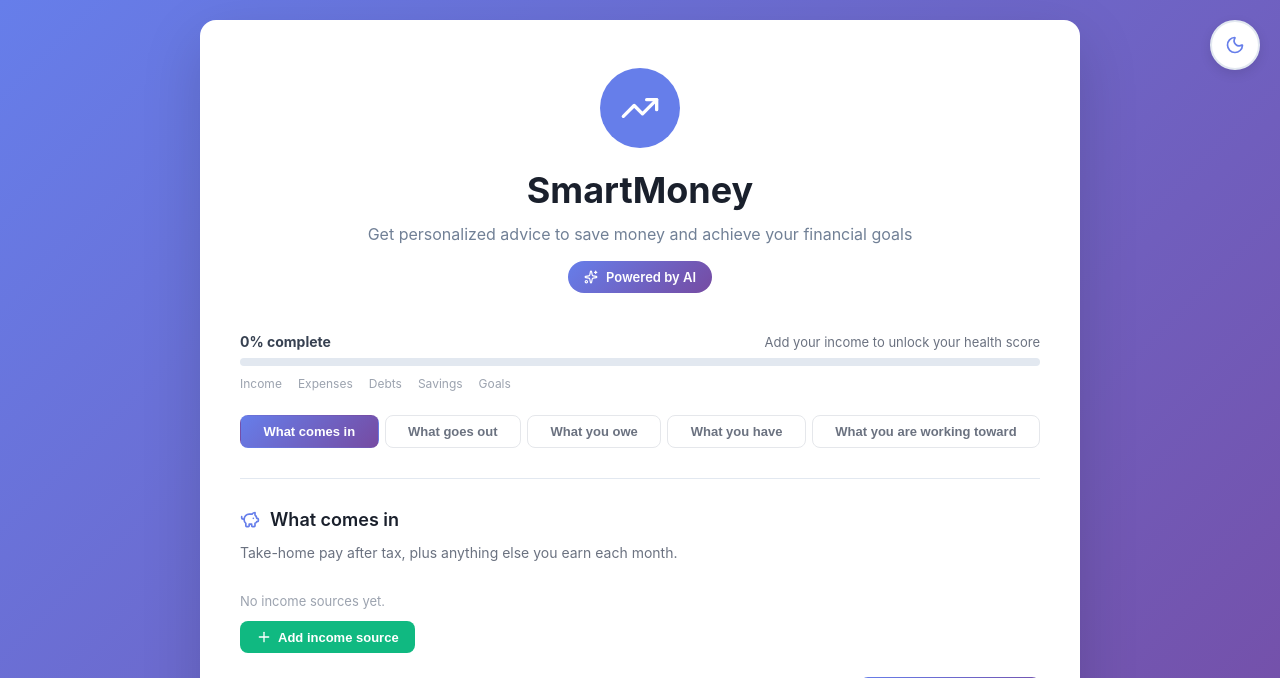
Test case: debt payoff calculator › shares its debt list with the wizard
This screenshot has width=1280, height=678.
Click the button "What you owe": (594, 432) x1=527 y1=415 x2=661 y2=448
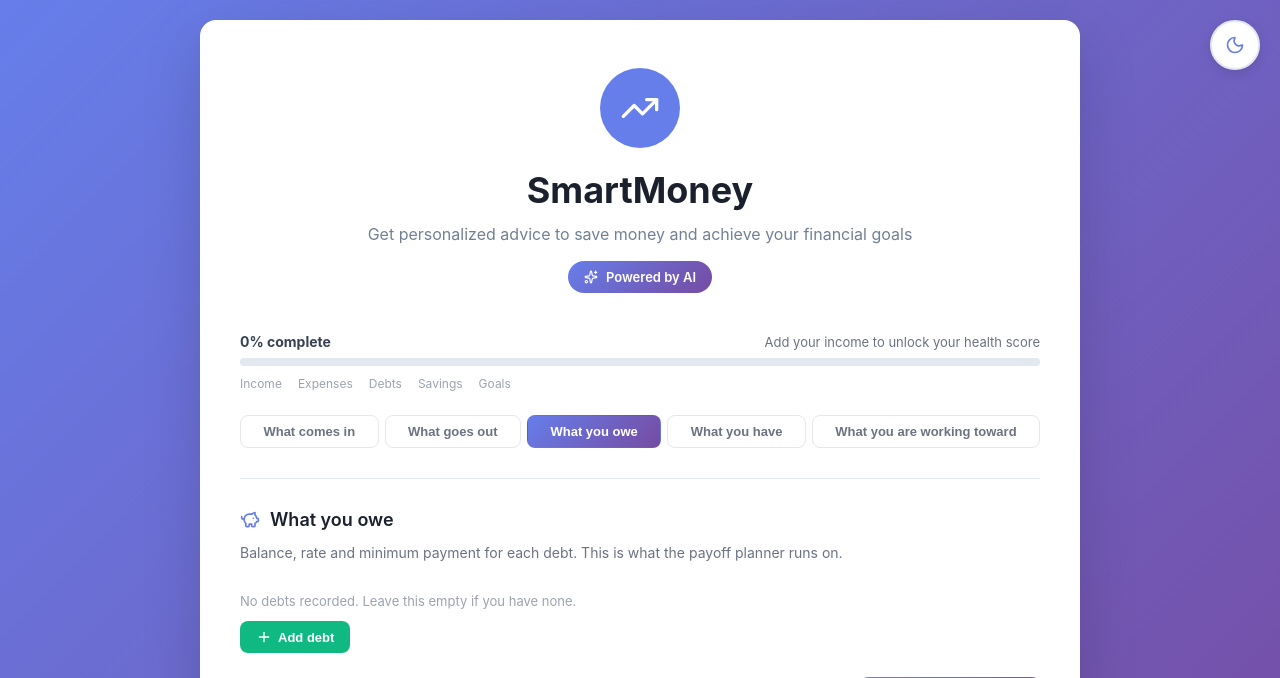
Click the button "Add debt": (295, 637) x1=240 y1=621 x2=350 y2=653
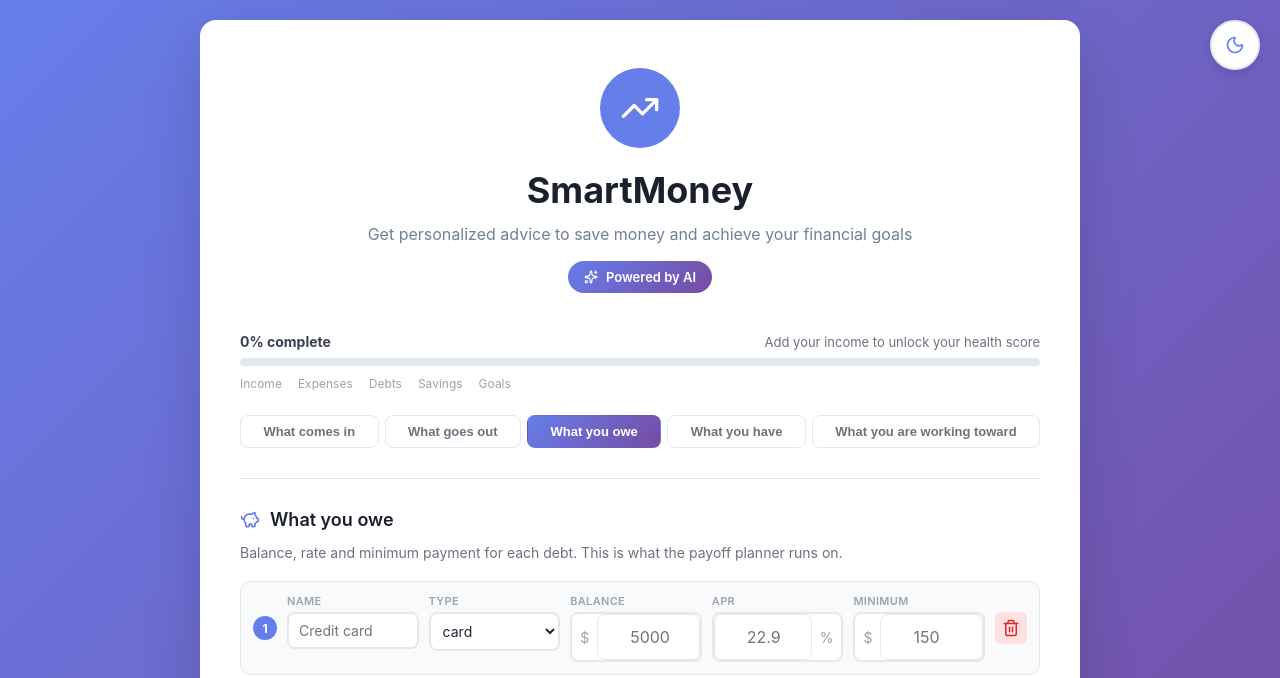
In the field labelled "Name": (353, 630) x1=289 y1=614 x2=417 y2=647, type "Car Loan"
In the number field labelled "Balance": (648, 637) x1=597 y1=614 x2=700 y2=660, type "15000"
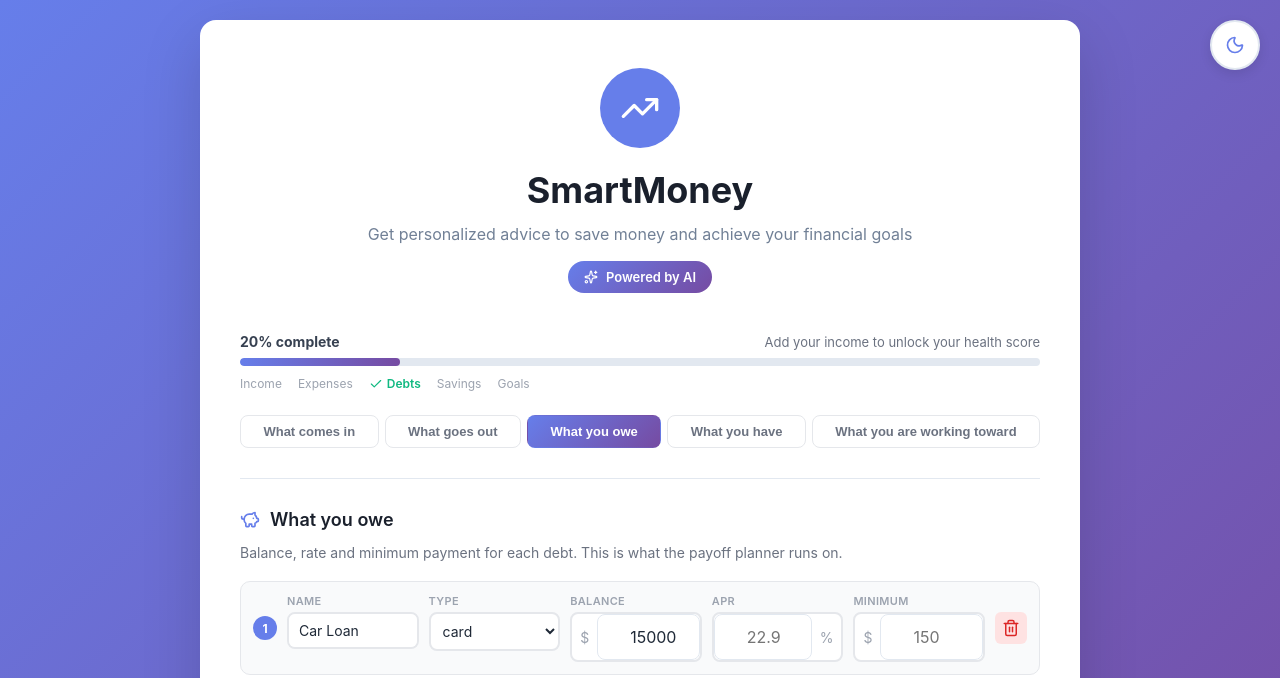
In the number field labelled "APR": (763, 637) x1=714 y1=614 x2=812 y2=660, type "6.5"
In the number field labelled "Minimum": (932, 637) x1=880 y1=614 x2=983 y2=660, type "350"
(page scrolled)
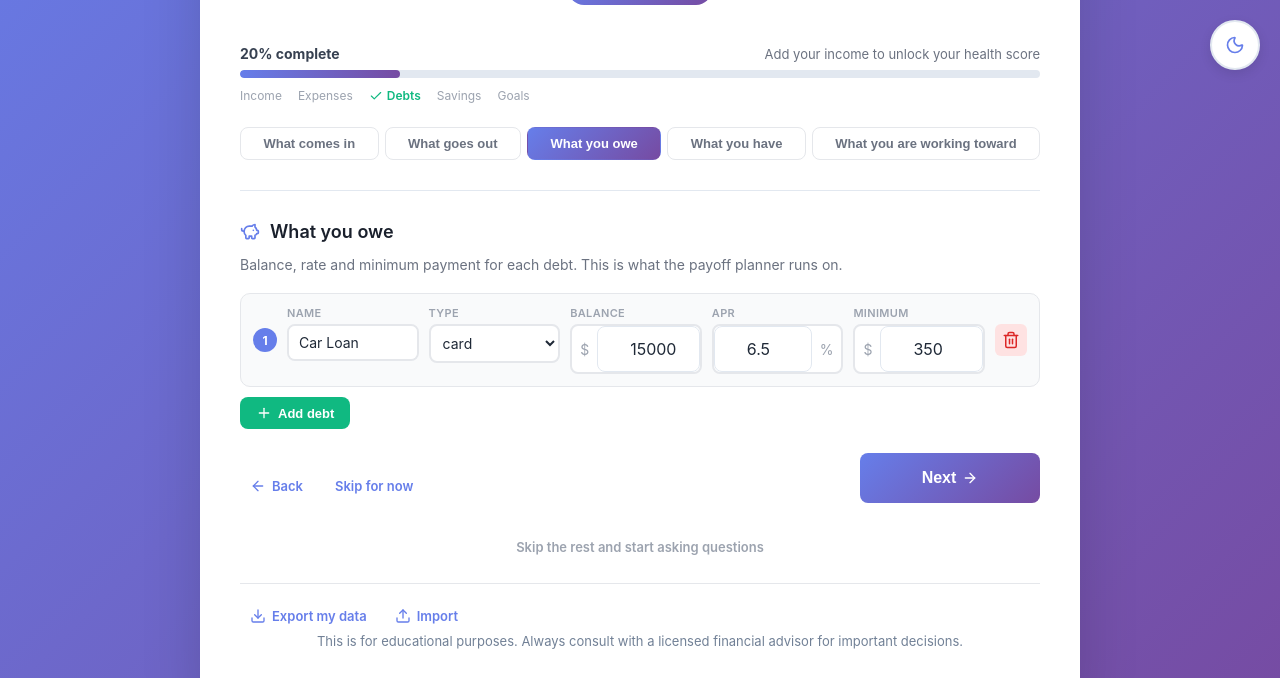
Click the button "Skip the rest and start asking questions": (640, 547) x1=506 y1=531 x2=774 y2=563
(page scrolled)
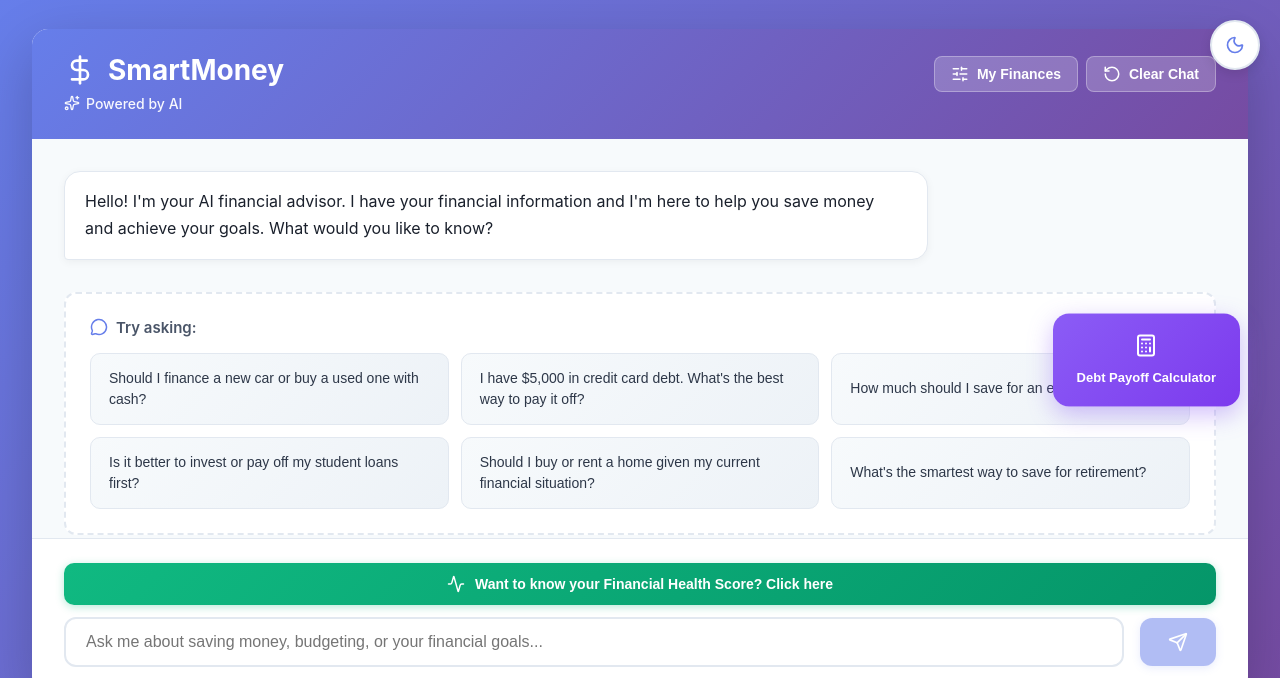
Click the button "Debt Payoff Calculator": (1146, 360) x1=1053 y1=314 x2=1240 y2=406
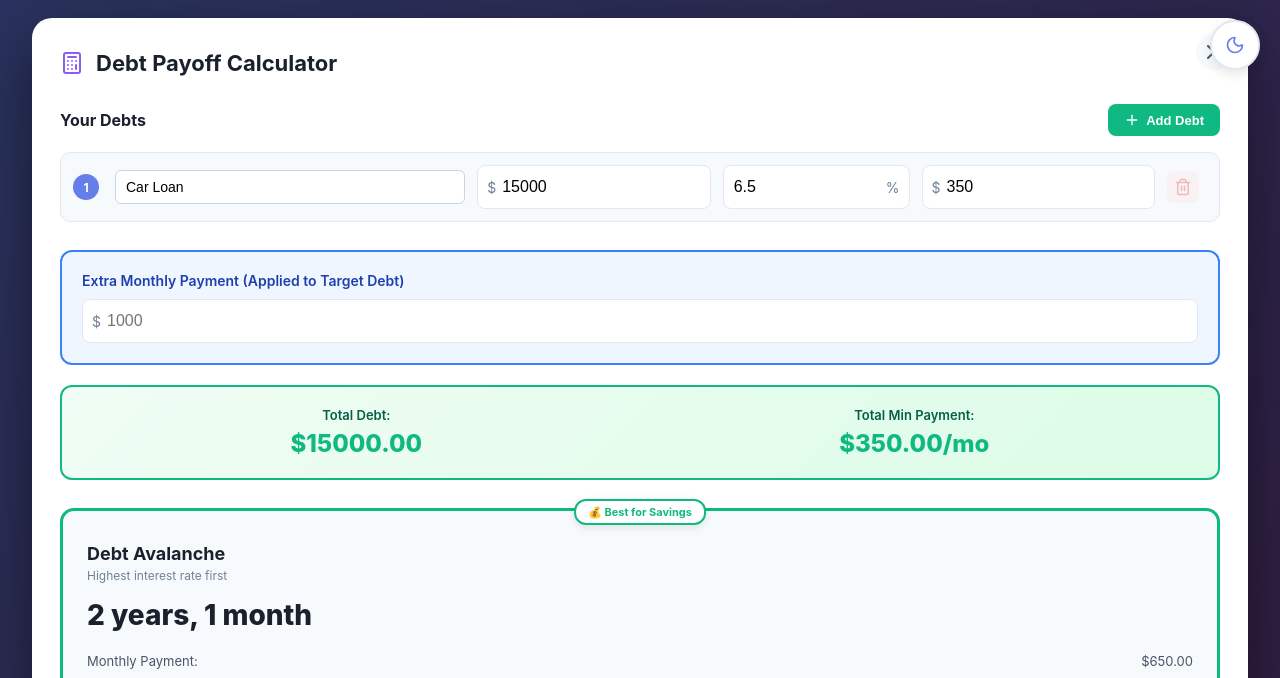
Expected: the field showing "Car Loan" is shown, x1=115 y1=170 x2=465 y2=204
Expected: the text "$15000.00" is shown, x1=290 y1=429 x2=422 y2=458
